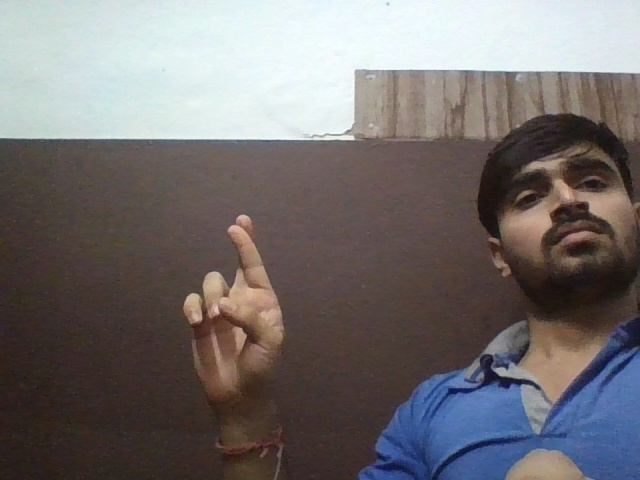R: (176, 209, 291, 399)
